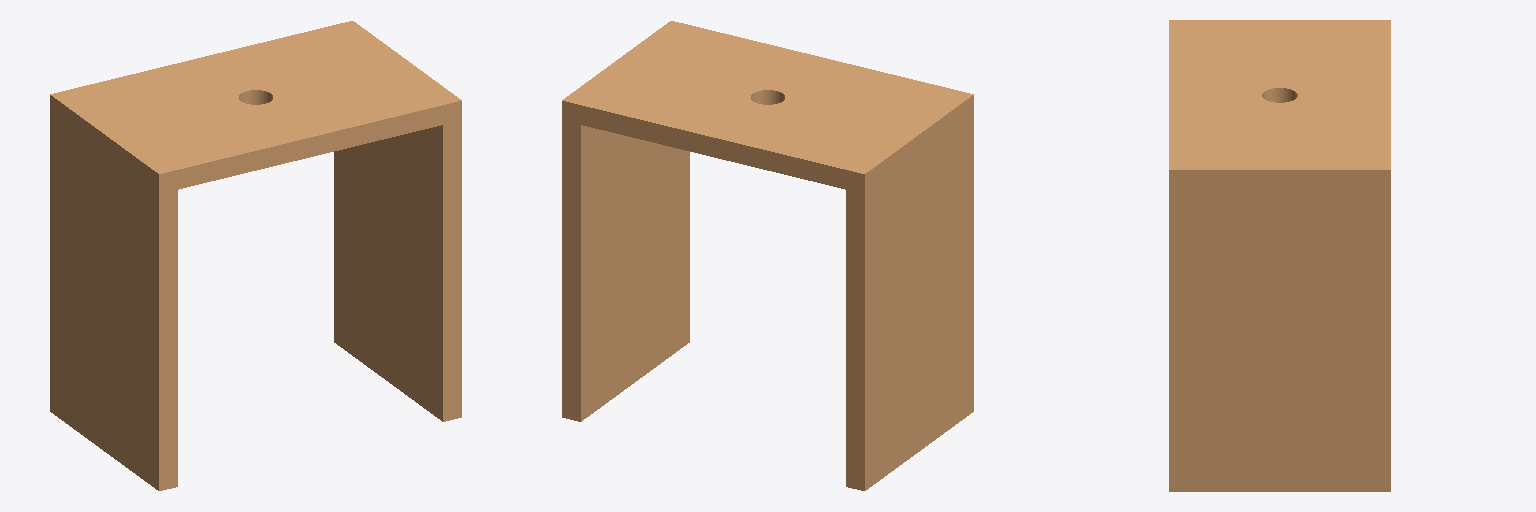
The robot description file, URDF, robot "robot_table":
<?xml version="1.0"?>
<robot name="robot_table">
    <link name="robot_table_origin">
        <visual>
            <geometry>
                <mesh filename="package://process_visualiser/resources/meshes_resized/robot_table.stl"
                      scale="1 1 1"/>
            </geometry>
            <material name="ABS" >
                <color rgba="0.9 0.7 0.5 1.0" />
            </material>
        </visual>
        <inertial>
            <origin xyz="0 0 0" rpy="0 0 0"/>
            <mass value="1"/>
            <inertia
                    ixx="1.0" ixy="0.0" ixz="0.0"
                    iyy="1.0" iyz="0.0"
                    izz="1.0"/>
        </inertial>

    </link>
    <link name="world"/>

    <joint name="fixed" type="fixed">
        <parent link="world"/>
        <child link="robot_table_origin"/>
    </joint>

</robot>

--- What the picture shows (computed from the rendered views, not written in the file) ---
3 views of the same robot in one strip: view 1: azimuth 30°, elevation 25°; view 2: azimuth 150°, elevation 25°; view 3: azimuth 270°, elevation 25° (orthographic).
Model robot_table with 2 links and 1 joints (1 fixed), rooted at world, posed every joint at zero.
Links seen in each view (by area): view 1: robot_table_origin; view 2: robot_table_origin; view 3: robot_table_origin.
Boxes of the visible links, x1=… form: robot_table_origin: x1=50, y1=21, x2=461, y2=490; robot_table_origin: x1=562, y1=21, x2=973, y2=490; robot_table_origin: x1=1169, y1=20, x2=1390, y2=491.
Size in the robot's own frame: 0.8 by 0.5 by 0.8 metres.
Meshes: 1 distinct files referenced, 1 mesh visuals loaded (1 binary STL).